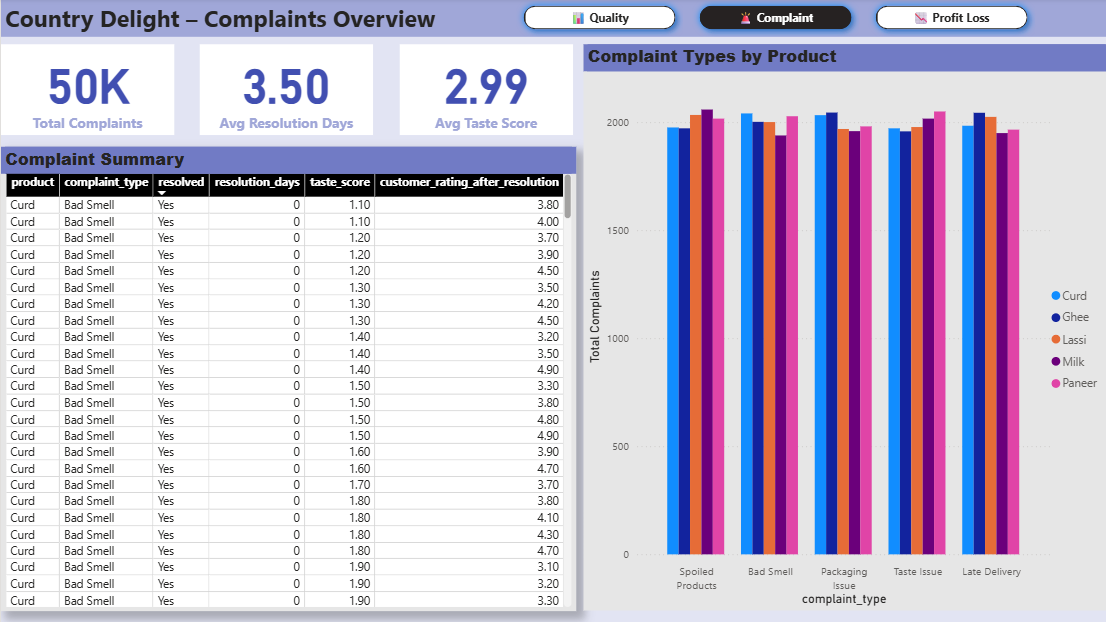

This screenshot's page, from the dashboard's own definition file:
{"tool":"powerbi","page":{"name":"🚨 Complaint","canvas":[1280,720],"ordinal":1},"visuals":[{"type":"textbox","box":[0,0,1280,45],"z":0},{"type":"card","fields":{"Values":["All Measures.Total Complaints"]},"box":[0,53.8,200,105],"z":1000},{"type":"card","fields":{"Values":["All Measures.Avg Resolution Days"]},"box":[230,53.8,200,105],"z":2000},{"type":"card","fields":{"Values":["All Measures.Avg Taste Score"]},"box":[460,53.8,200,105],"z":3000},{"type":"tableEx","title":" Complaint Summary","fields":{"Values":["complaint_data.product","complaint_data.complaint_type","complaint_data.resolved","complaint_data.resolution_days","complaint_data.taste_score","complaint_data.customer_rating_after_resolution"]},"box":[0,171.2,663.8,536.2],"z":4000},{"type":"clusteredColumnChart","title":"Complaint Types by Product","fields":{"Category":["complaint_data.complaint_type"],"Series":["complaint_data.product"],"Y":["All Measures.Total Complaints"]},"box":[672.5,53.8,607.5,653.8],"z":5000},{"type":"pageNavigator","box":[593.8,0,600,45],"z":6000}]}

Visuals, with their boxes in screenshot pixels (x1, y1, x2, y2), scaled from the page's 1280x720 canvas onto the 1106x622 screenshot:
textbox: 0/0/1105/39
card - All Measures.Total Complaints: 0/46/173/137
card - All Measures.Avg Resolution Days: 199/46/372/137
card - All Measures.Avg Taste Score: 397/46/570/137
" Complaint Summary" tableEx: 0/148/574/611
"Complaint Types by Product" clusteredColumnChart: 581/46/1105/611
pageNavigator: 513/0/1032/39
